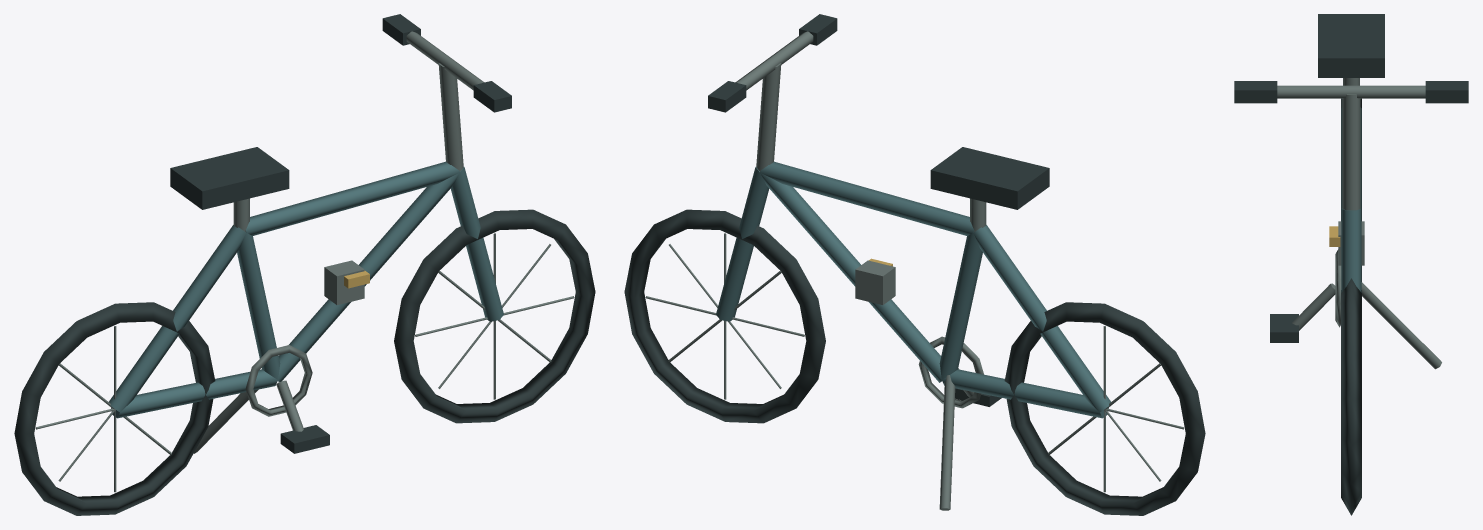
Rendered from legacy-101.glb.
3 renders of one model, left to right at view 1: azimuth 30°, elevation 25°; view 2: azimuth 150°, elevation 25°; view 3: azimuth 270°, elevation 25°, orthographic. The views are drawn at different scales.
Visible parts, largest first — view 1: part-6, part-1, part-18, part-14, part-12, part-15, part-16, part-11, part-13, part-19, part-23, part-27 (+5 smaller); view 2: part-6, part-1, part-18, part-14, part-15, part-12, part-11, part-16, part-13, part-19, part-27, part-26 (+4 smaller); view 3: part-6, part-18, part-19, part-20, part-16, part-26, part-21, part-22, part-25, part-24, part-23, part-14 (+1 smaller).
Boxes of the visible parts, x1,y1,x2,y2 form: part-6: (394,209,595,423); part-1: (14,302,215,515); part-18: (170,147,289,209); part-14: (245,161,459,235); part-12: (109,225,246,412); part-15: (278,173,459,381); part-16: (450,167,503,321); part-11: (111,369,277,418); part-13: (237,233,280,379); part-19: (438,63,463,171); part-23: (245,345,312,416); part-27: (324,260,364,304); part-6: (624,209,825,423); part-1: (1004,302,1205,515); part-18: (930,147,1049,209); part-14: (760,161,974,235); part-15: (760,173,941,382); part-12: (973,225,1110,412); part-11: (942,369,1108,418); part-16: (716,167,769,321); part-13: (939,233,982,379); part-19: (756,63,781,171); part-27: (855,260,895,304); part-26: (939,375,955,510); part-6: (1341,278,1361,515); part-18: (1318,14,1384,77); part-19: (1342,94,1360,210); part-20: (1277,85,1425,98); part-16: (1341,209,1361,292); part-26: (1361,282,1441,369); part-21: (1425,81,1468,103); part-22: (1234,81,1277,103); part-25: (1270,314,1298,342); part-24: (1292,283,1335,330); part-23: (1335,249,1341,327); part-14: (1341,107,1361,208).
Bounding box in the file's own units: 1.47 × 0.91 × 0.49.
